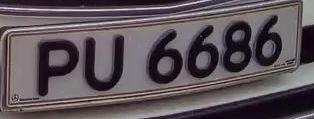6: (143, 26, 186, 89), (184, 21, 222, 84), (251, 8, 285, 68)
8: (221, 16, 256, 79)
P: (29, 32, 85, 100)
U: (80, 32, 131, 95)
